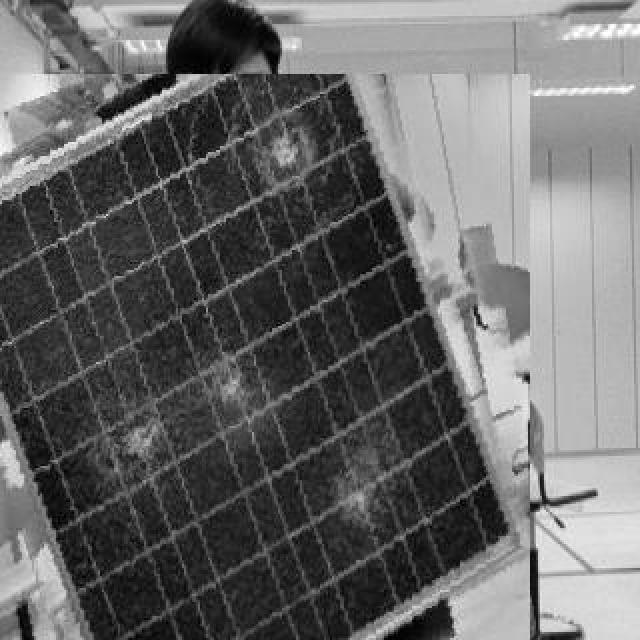Physical-damage: (218, 95, 356, 193), (320, 417, 418, 522), (92, 401, 177, 481), (197, 350, 263, 416)
